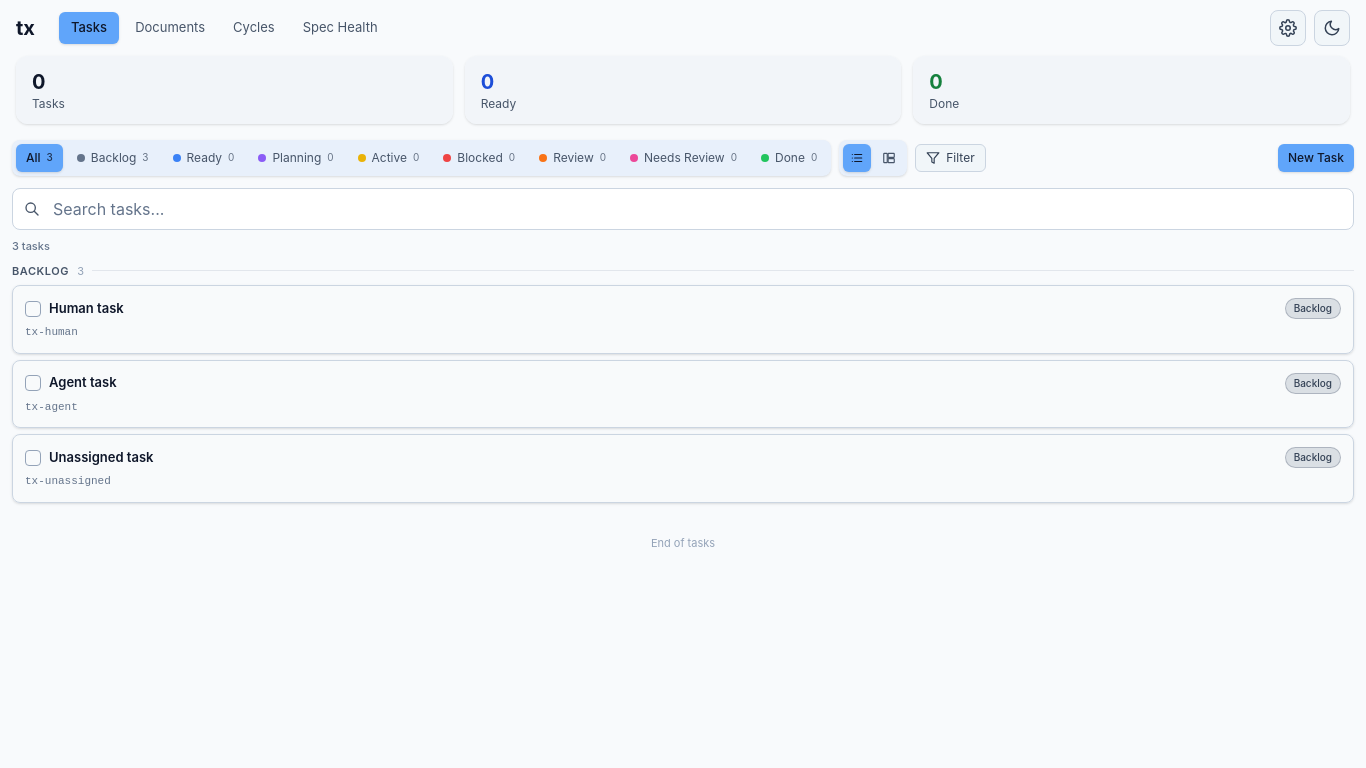
it: Tasks client filters › filters by assignment type and syncs taskAssignee in URL
Expected: the heading "Human task" is shown, [49,299,124,318]
Expected: the heading "Agent task" is shown, [49,373,117,393]
Step 1. Click the button "Filter" → (950, 158), box [915,144,986,172]
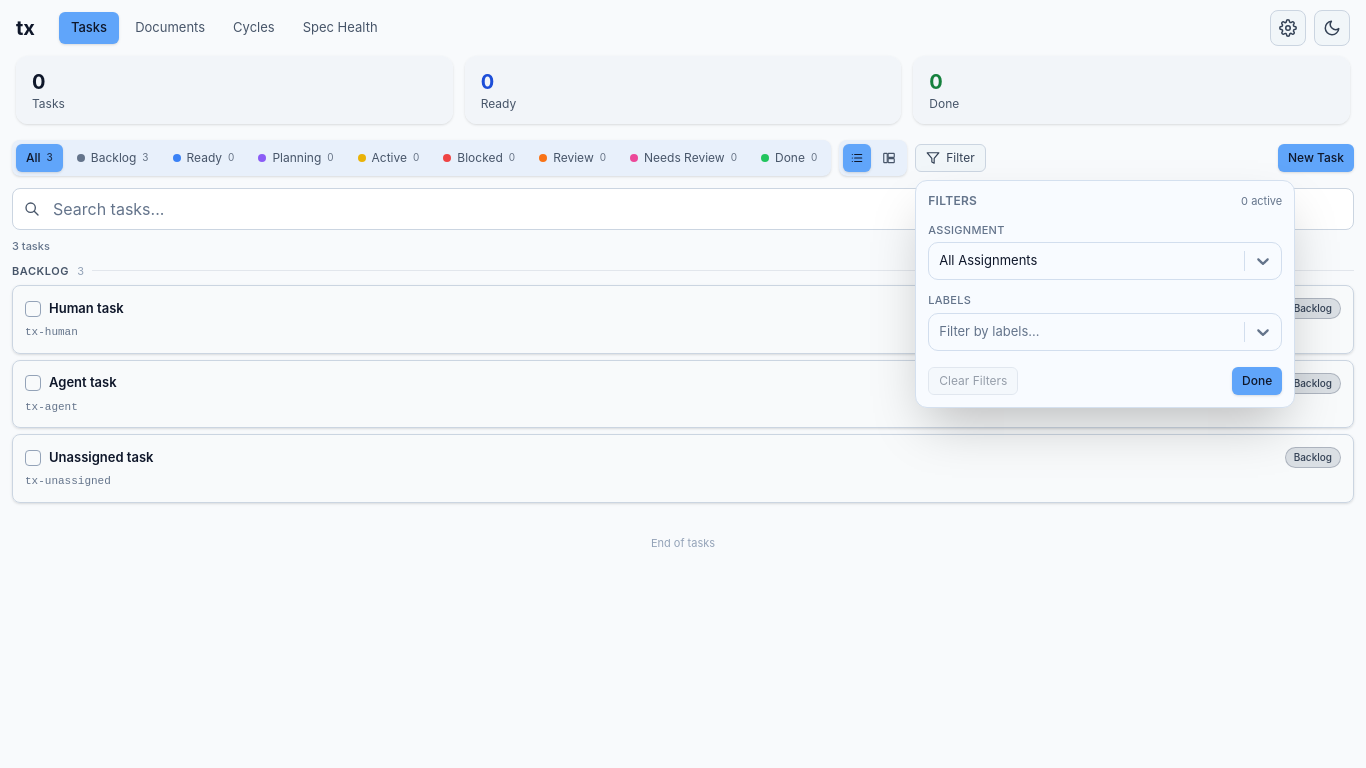
Step 2. Focus the dropdown labelled "All Assignments" → (988, 260), box [939,252,1037,268]
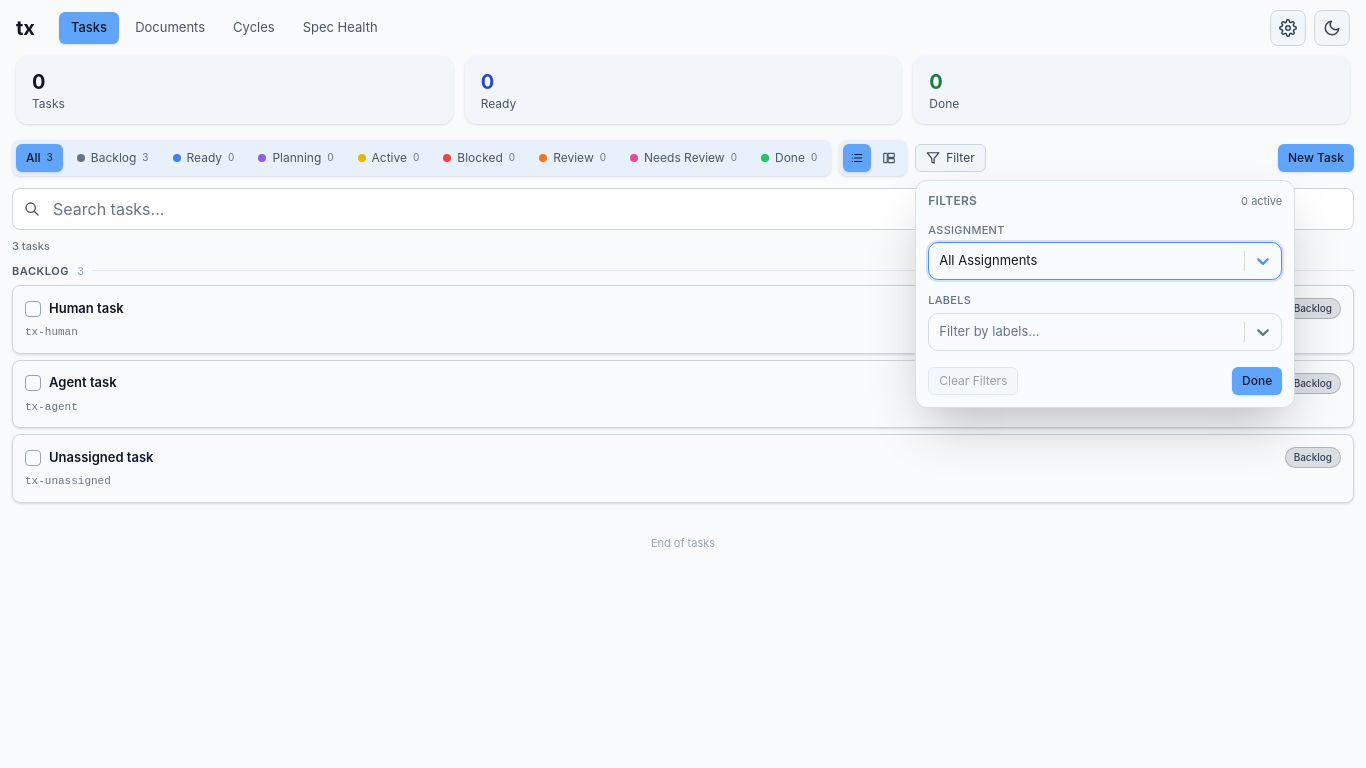
Step 3. Press ArrowDown in the dropdown labelled "All Assignments", box [939,252,1037,268]
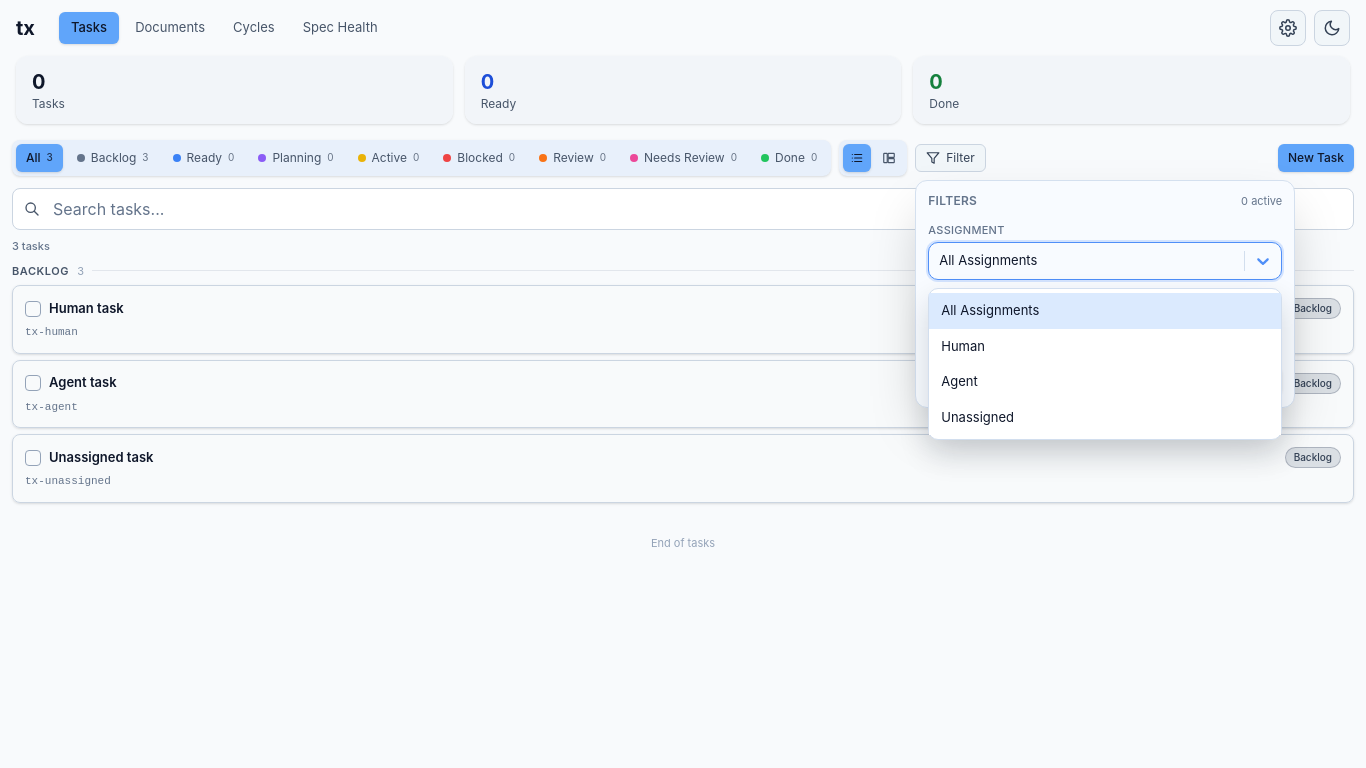
Step 4. Click the option "Agent" → (959, 381), box [929,364,1281,400]
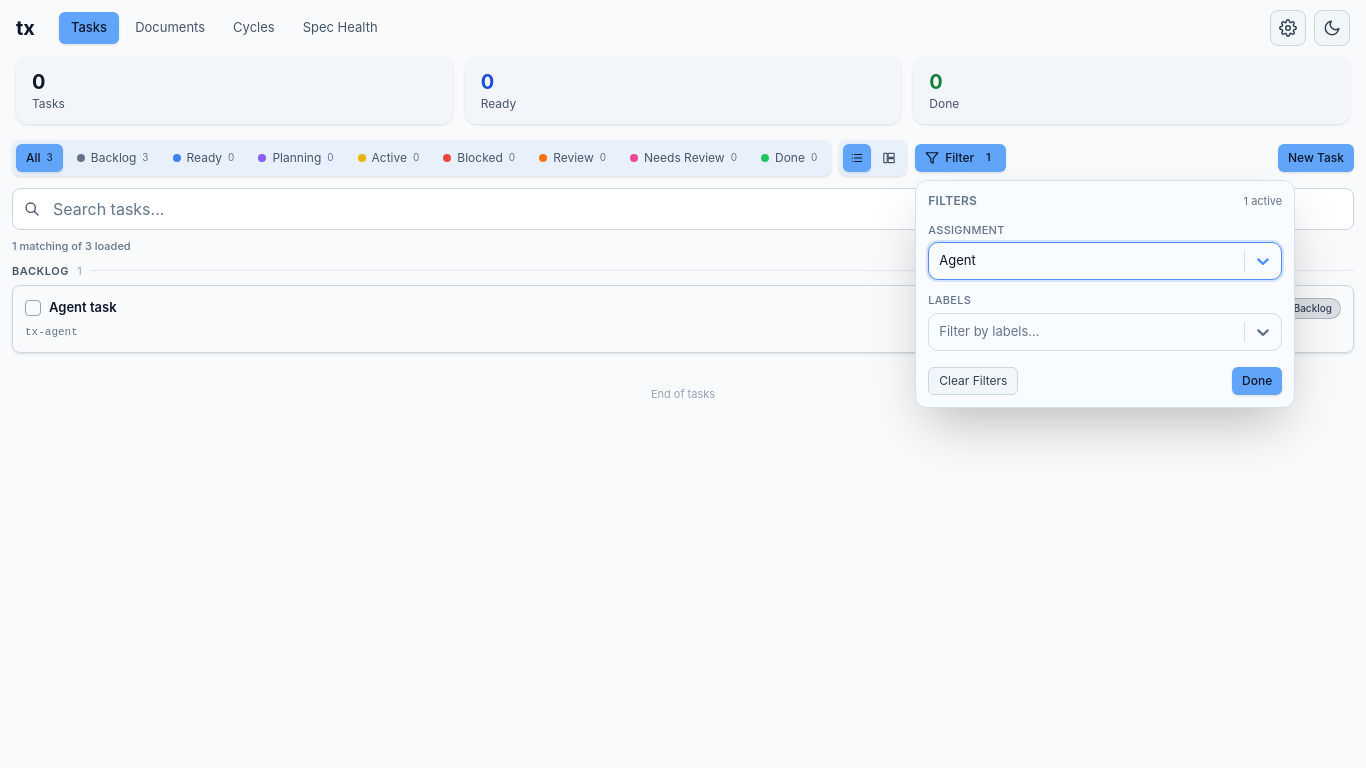
Expected: the heading "Agent task" is shown, [49,299,117,318]
Expected: the button "Human task" is gone
Expected: the button "Unassigned task" is gone
